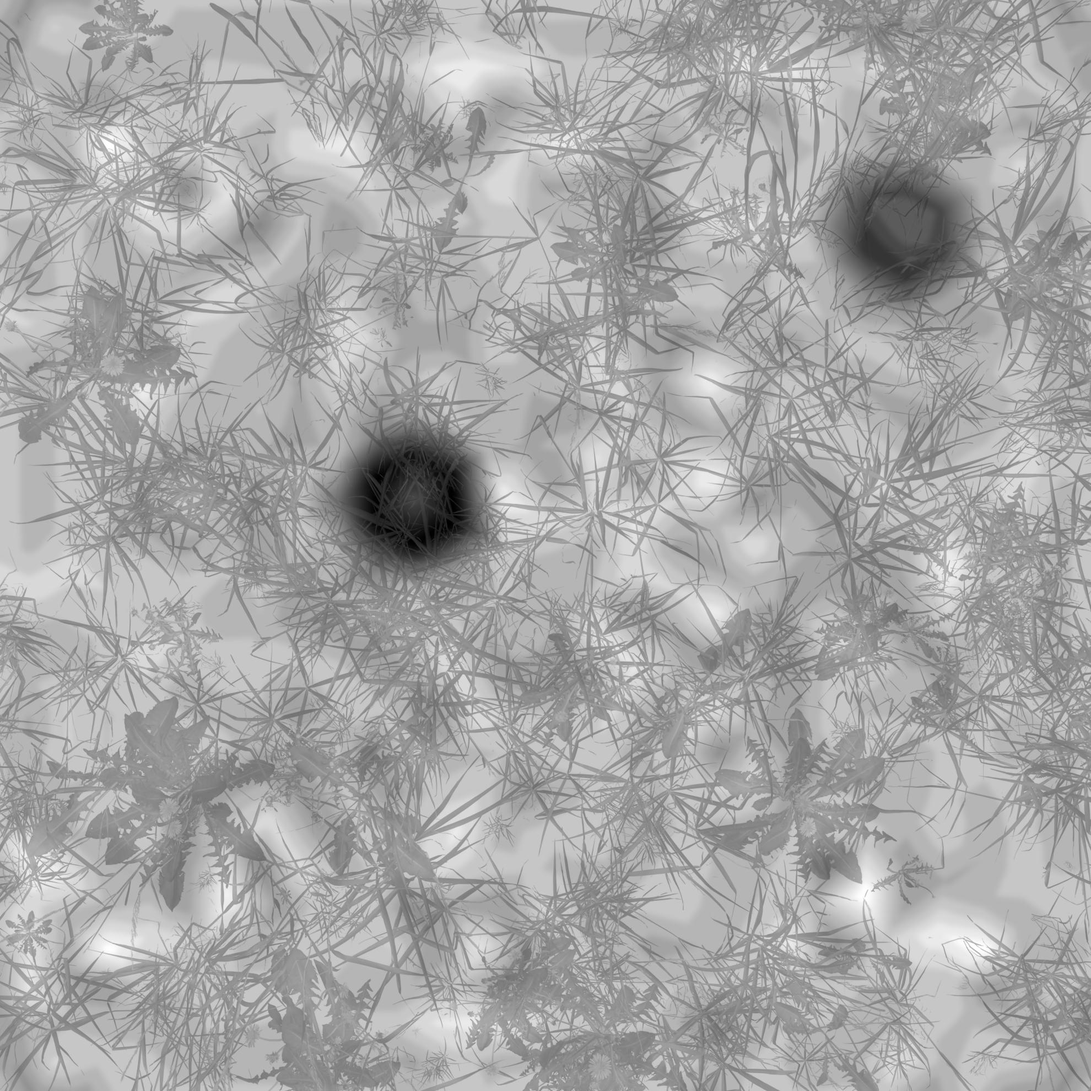landmine: (333, 433, 491, 580), (839, 171, 965, 285)
